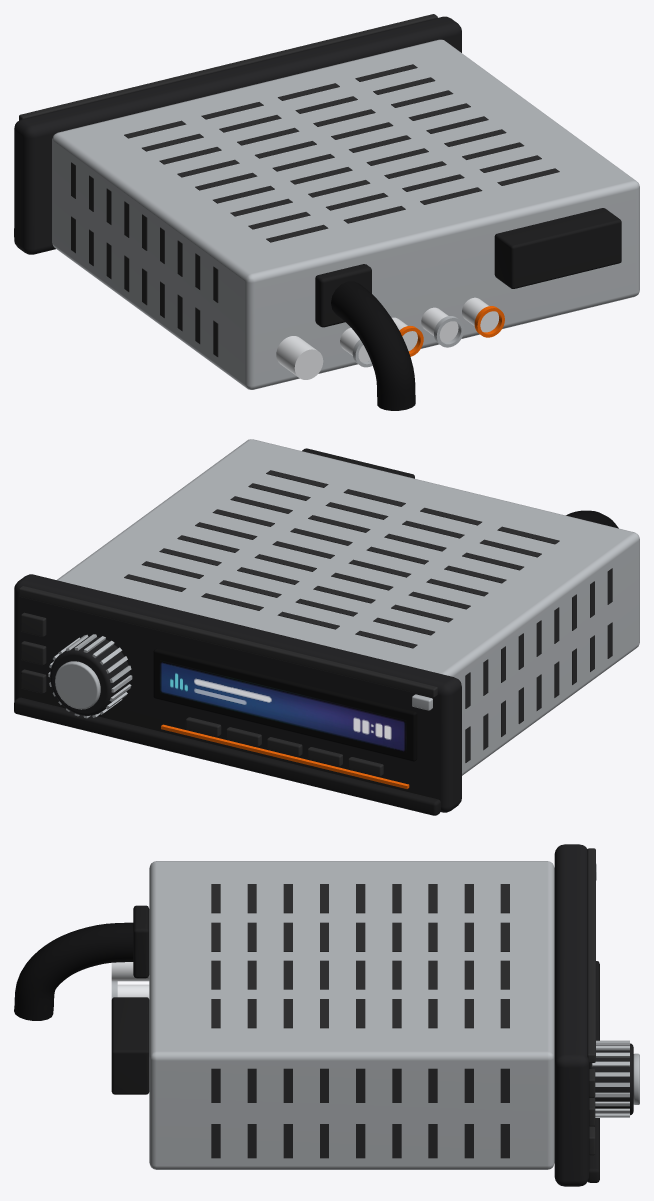
File: head-unit-3.glb
3 renders of one model, top to bottom at view 1: azimuth 30°, elevation 25°; view 2: azimuth 150°, elevation 25°; view 3: azimuth 270°, elevation 25°, orthographic.
Visible parts, largest first — view 1: head-unit; view 2: head-unit; view 3: head-unit.
Part boxes in pixels (x1=…): head-unit: x1=14, y1=14, x2=639, y2=410; head-unit: x1=14, y1=439, x2=639, y2=815; head-unit: x1=14, y1=844, x2=639, y2=1186.
Bounding box in the file's own units: 0.178 × 0.05 × 0.2163.
9 materials, 1 textured.
